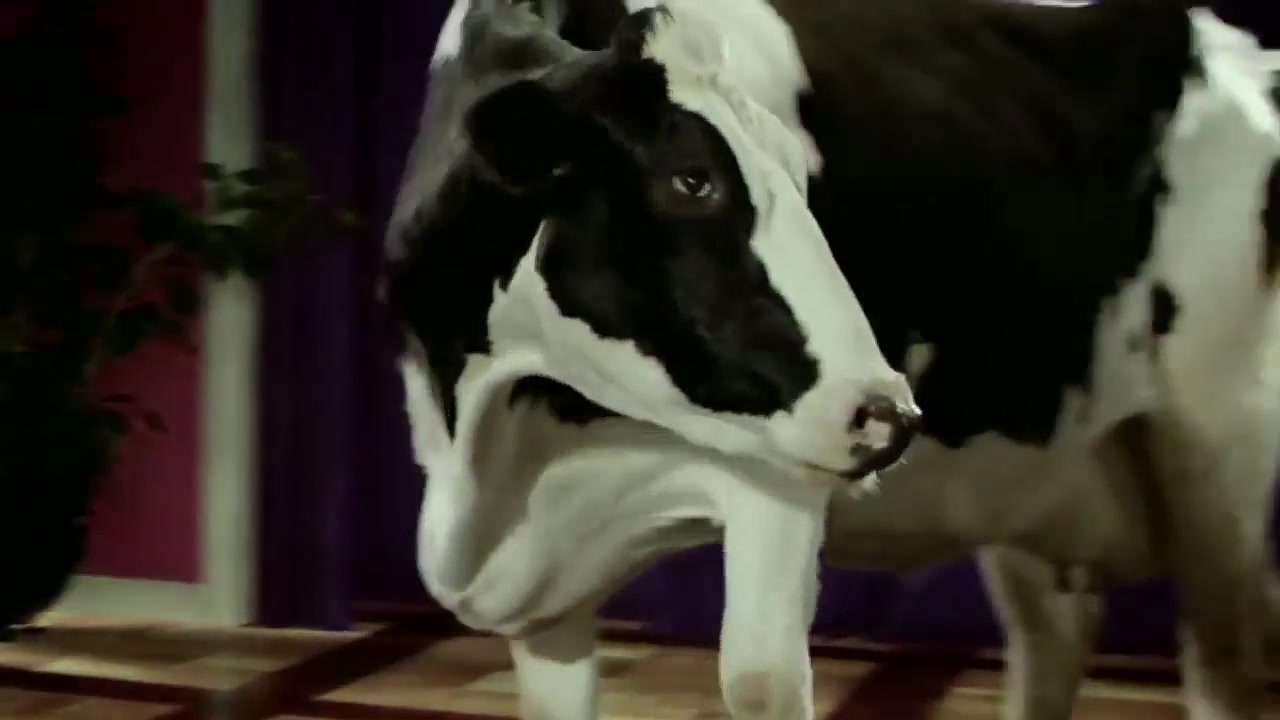cow: (382, 1, 1280, 720)
